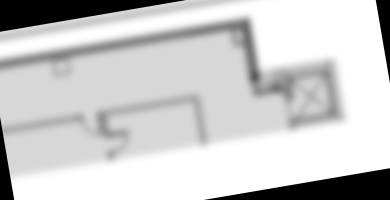door: (79, 113, 106, 139), (105, 130, 134, 154)
wall: (0, 16, 250, 70), (238, 16, 261, 84)
